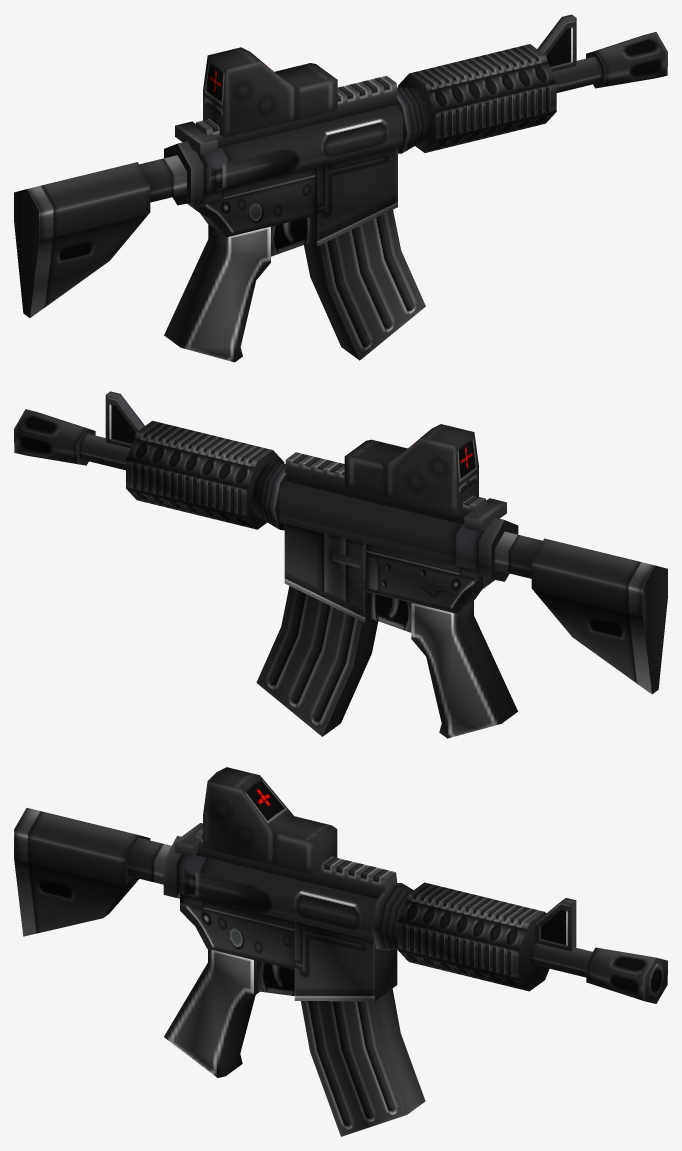
The model's file is rifle m4a1 lv2.FBX.
3 views of the same model, one above another, from view 1: azimuth 30°, elevation 25°; view 2: azimuth 150°, elevation 25°; view 3: azimuth 330°, elevation 25° (orthographic).
Visible parts, largest first — view 1: Object044; view 2: Object044; view 3: Object044.
Part boxes in pixels (left/top/right/bottom): Object044: left=14, top=14, right=667, bottom=362; Object044: left=14, top=391, right=667, bottom=738; Object044: left=14, top=767, right=667, bottom=1136.
Size of the model in its own units: 78.94 by 39.05 by 8.18.
